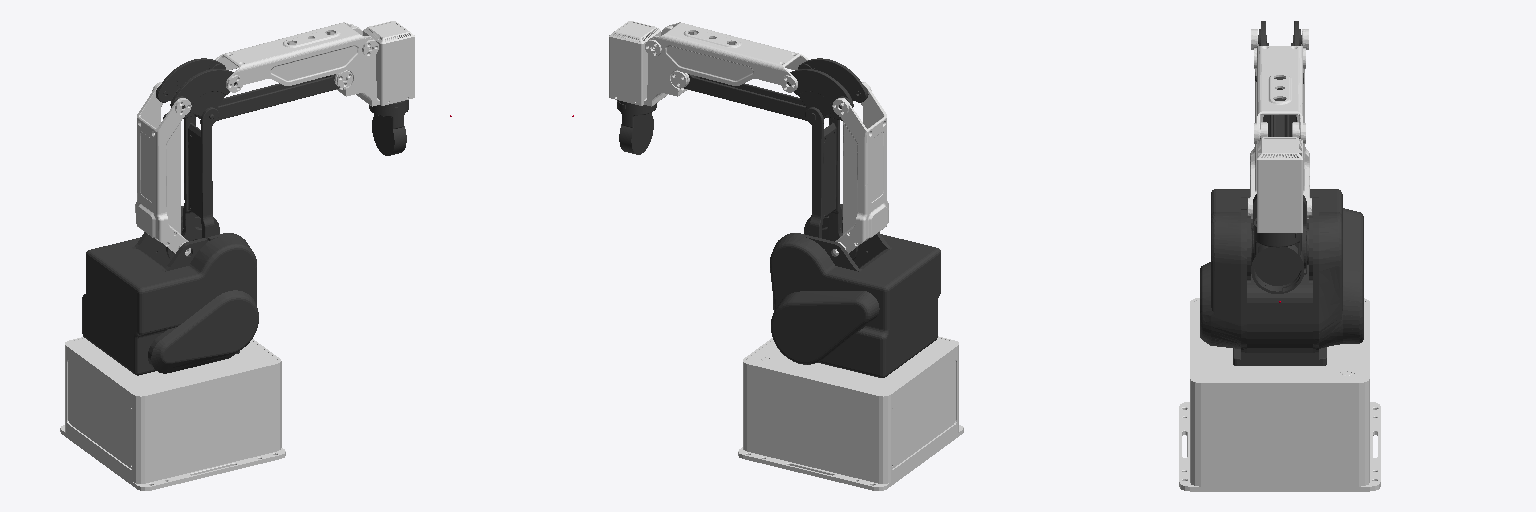
URDF robot description (mg400):
<?xml version="1.0" encoding="utf-8"?>
<!-- This URDF was automatically created by SolidWorks to URDF Exporter! Originally created by Stephen Brawner ([email redacted]) 
     Commit Version: 1.6.0-1-g15f4949  Build Version: 1.6.7594.29634
     For more information, please see http://wiki.ros.org/sw_urdf_exporter -->
<robot name="mg400">
  <material name="TransparentRed">
    <color rgba="0.9 0 0.2 0.5"/>
  </material>
  <!-- Colors -->
  <material name="DarkGrey">
    <color rgba="0.3 0.3 0.3 1.0"/>
  </material>
  <material name="Grey">
    <color rgba="0.4 0.4 0.4 1.0"/>
  </material>
  <material name="Orange">
    <color rgba="1.0 0.423529411765 0.0392156862745 1.0"/>
  </material>
  <material name="Blue">
    <color rgba="0 0.1 1.0 1.0"/>
  </material>
  <material name="LightGrey">
    <color rgba="0.9 0.9 0.9 1.0"/>
  </material>
  <material name="Red">
    <color rgba="0.9 0 0.2 1.0"/>
  </material>
  <material name="TransparentRed">
    <color rgba="0.9 0 0.2 0.5"/>
  </material>
  <material name="Green">
    <color rgba="0 0.9 0.5 1.0"/>
  </material>
  <material name="Yellow">
    <color rgba="0.7 0.7 0 1.0"/>
  </material>
  <material name="LightBlue">
    <color rgba="0. 0.3 1.0 1.0"/>
  </material>
  <material name="Black">
    <color rgba="0.05 0.05 0.05 1.0"/>
  </material>
  <material name="White">
    <color rgba="1.0 1.0 1.0 1.0" />
  </material>

  
    <link name="base_link">
        <inertial>
            <origin xyz="0.000600637001378879 -2.53487071137343E-07 0.0560927888040551" rpy="0 0 0"/>
            <mass value="3.62164811695094"/>
            <inertia
                    ixx="0.0126582175296405"
                    ixy="6.66832041405407E-08"
                    ixz="-3.52548281362717E-06"
                    iyy="0.0145891535260188"
                    iyz="5.15901657460475E-08"
                    izz="0.0195045116656827"/>
        </inertial>
        <visual>
            <origin xyz="0 0 0" rpy="0 0 0"/>
            <geometry>
                <mesh filename="package://mg400/meshes/base_link.STL"/>
            </geometry>
            <material name="LightGrey"/>

        </visual>
        <collision>
            <origin xyz="0 0 0" rpy="0 0 0"/>
            <geometry>
                <mesh filename="package://mg400/meshes/base_link.STL"/>
            </geometry>
        </collision>
    </link>

    <link name="link1">
        <inertial>
            <origin xyz="-0.0046209286967387 -6.88107982318643E-05 0.0709919358465827" rpy="0 0 0"/>
            <mass value="1.77056222753813"/>
            <inertia
                    ixx="0.00605885293080088"
                    ixy="0.000156081820035162"
                    ixz="-0.00021785654850453"
                    iyy="0.00579381982249127"
                    iyz="6.20876898015621E-05"
                    izz="0.00741058257251941"/>
        </inertial>
        <visual>
            <origin xyz="0 0 0" rpy="0 0 0"/>
            <geometry>
                <mesh filename="package://mg400/meshes/link1.STL"/>
            </geometry>
            <material name="DarkGrey"/>
        </visual>
        <collision>
            <origin xyz="0 0 0" rpy="0 0 0"/>
            <geometry>
                <mesh filename="package://mg400/meshes/link1.STL"/>
            </geometry>
        </collision>
    </link>

    <joint name="j1" type="revolute">
        <origin xyz="-0.00500000000000002 0 0.109" rpy="0 0 0"/>
        <parent link="base_link"/>
        <child link="link1"/>
        <axis xyz="0 0 1"/>
        <limit lower="-3.14" upper="3.14" effort="0" velocity="0"/>
    </joint>

    <link name="link2_1">
        <inertial>
            <origin xyz="-0.00321788524756698 0.0352926570826593 0.0596131328734945" rpy="0 0 0"/>
            <mass value="0.0866115884541459"/>
            <inertia
                    ixx="0.000338551627157209"
                    ixy="-2.78858228577314E-09"
                    ixz="1.05212346076681E-05"
                    iyy="0.000307789653713489"
                    iyz="-1.36109590152488E-06"
                    izz="3.89949940178023E-05"/>
        </inertial>
        <visual>
            <origin xyz="0 0 0" rpy="0 0 0"/>
            <geometry>
                <mesh filename="package://mg400/meshes/link2_1.STL"/>
            </geometry>
            <material name="DarkGrey"/>
        </visual>
        <collision>
            <origin xyz="0 0 0" rpy="0 0 0"/>
            <geometry>
                <mesh filename="package://mg400/meshes/link2_1.STL"/>
            </geometry>
        </collision>
    </link>

    <joint name="j2_1" type="revolute">
        <origin xyz="0.0435007595118091 -0.0357748756218899 0.118995682641123" rpy="0 0 0"/>
        <parent link="link1"/>
        <child link="link2_1"/>
        <axis xyz="0 1 0"/>
        <limit lower="-3.14" upper="3.14" effort="0" velocity="0"/>
    </joint>

    <link name="link3_1">
        <inertial>
            <origin xyz="0.0821679417596488 0.000113044685842874 -0.00333758753063973" rpy="0 0 0"/>
            <mass value="0.0375214831045061"/>
            <inertia
                    ixx="2.54761091812684E-06"
                    ixy="3.73102654491378E-07"
                    ixz="-2.02625705871199E-06"
                    iyy="0.000164234314177935"
                    iyz="-1.44731096825347E-08"
                    izz="0.000164331500854172"/>
        </inertial>
        <visual>
            <origin xyz="0 0 0" rpy="0 0 0"/>
            <geometry>
                <mesh filename="package://mg400/meshes/link3_1.STL"/>
            </geometry>
            <material name="DarkGrey"/>
        </visual>
        <collision>
            <origin xyz="0 0 0" rpy="0 0 0"/>
            <geometry>
                <mesh filename="package://mg400/meshes/link3_1.STL"/>
            </geometry>
        </collision>
    </link>

    <joint name="j3_1" type="revolute">
        <origin xyz="-0.0010512570171516 0.0357748756218898 0.175001164344716" rpy="0 0 0"/>
        <parent link="link2_1"/>
        <child link="link3_1"/>
        <axis xyz="0 1 0"/>
        <limit lower="-3.14" upper="3.14" effort="0" velocity="0"/>
    </joint>

    <link name="link4_1">
        <inertial>
            <origin xyz="0.0387878182928232 0.0170848333998282 -0.0024610990490942" rpy="0 0 0"/>
            <mass value="0.0628979533925801"/>
            <inertia
                    ixx="4.78483605712844E-05"
                    ixy="1.42081909356751E-07"
                    ixz="8.32917079044309E-06"
                    iyy="5.42362047732042E-05"
                    iyz="-2.90608446019989E-08"
                    izz="3.36120409842199E-05"/>
        </inertial>
        <visual>
            <origin xyz="0 0 0" rpy="0 0 0"/>
            <geometry>
                <mesh filename="package://mg400/meshes/link4_1.STL"/>
            </geometry>
            <material name="LightGrey"/>
        </visual>
        <collision>
            <origin xyz="0 0 0" rpy="0 0 0"/>
            <geometry>
                <mesh filename="package://mg400/meshes/link4_1.STL"/>
            </geometry>
        </collision>
    </link>

    <joint name="j4_1" type="revolute">
        <origin xyz="0.174969784055705 -0.0170000000000335 0.00325187137614585" rpy="0 0 0"/>
        <parent link="link3_1"/>
        <child link="link4_1"/>
        <axis xyz="0 1 0"/>
        <limit lower="-3.14" upper="3.14" effort="0" velocity="0"/>
    </joint>

    <link name="link5">
        <inertial>
            <origin xyz="4.24246458685662E-07 3.08507851181768E-14 -0.0349688816440933" rpy="0 0 0"/>
            <mass value="0.0965276919819365"/>
            <inertia
                    ixx="4.98589992160928E-05"
                    ixy="-1.534865545378E-12"
                    ixz="3.46424449605658E-10"
                    iyy="4.98589881725446E-05"
                    iyz="-5.64890953414983E-17"
                    izz="2.130463008359E-05"/>
        </inertial>
        <visual>
            <origin xyz="0 0 0" rpy="0 0 0"/>
            <geometry>
                <mesh filename="package://mg400/meshes/link5.STL"/>
            </geometry>
            <material name="LightGrey"/>
        </visual>
        <collision>
            <origin xyz="0 0 0" rpy="0 0 0"/>
            <geometry>
                <mesh filename="package://mg400/meshes/link5.STL"/>
            </geometry>
        </collision>
    </link>

    <joint name="j5" type="revolute">
        <origin xyz="0.0659996239003897 0.0170000000000371 0.031000800715573" rpy="0 0 0"/>
        <parent link="link4_1"/>
        <child link="link5"/>
        <axis xyz="-1.19408295462994E-05 0 0.999999999928708"/>
        <limit lower="-3.14" upper="3.14" effort="0" velocity="0"/>
    </joint>

    <link name="link2_2">
        <inertial>
            <origin xyz="-0.0201111131723385 0.0304999635268521 0.073632809340276" rpy="0 0 0"/>
            <mass value="0.0662546292985346"/>
            <inertia
                    ixx="0.000218973873589181"
                    ixy="3.0147933007673E-10"
                    ixz="2.51402553227571E-06"
                    iyy="0.000200510070261609"
                    iyz="-1.41837669904595E-09"
                    izz="3.74316777806776E-05"/>
        </inertial>
        <visual>
            <origin xyz="0 0 0" rpy="0 0 0"/>
            <geometry>
                <mesh filename="package://mg400/meshes/link2_2.STL"/>
            </geometry>
            <material name="LightGrey"/>
        </visual>
        <collision>
            <origin xyz="0 0 0" rpy="0 0 0"/>
            <geometry>
                <mesh filename="package://mg400/meshes/link2_2.STL"/>
            </geometry>
        </collision>
    </link>

    <joint name="j2_2" type="revolute">
        <origin xyz="0.00452885682964267 -0.0305 0.141500000000001" rpy="0 0 0"/>
        <parent link="link1"/>
        <child link="link2_2"/>
        <axis xyz="0 1 0"/>
        <limit lower="-3.14" upper="3.14" effort="0" velocity="0"/>
    </joint>

    <link name="link3_2">
        <inertial>
            <origin xyz="0.0338566736074436 0.0240208873857428 0.00452229895926692" rpy="0 0 0"/>
            <mass value="0.0366692789294813"/>
            <inertia
                    ixx="7.24011830695354E-06"
                    ixy="7.93542746250724E-10"
                    ixz="-1.69163254472566E-06"
                    iyy="2.34967008246727E-05"
                    iyz="4.55507111386579E-10"
                    izz="1.66831643179488E-05"/>
        </inertial>
        <visual>
            <origin xyz="0 0 0" rpy="0 0 0"/>
            <geometry>
                <mesh filename="package://mg400/meshes/link3_2.STL"/>
            </geometry>
            <material name="DarkGrey"/>
        </visual>
        <collision>
            <origin xyz="0 0 0" rpy="0 0 0"/>
            <geometry>
                <mesh filename="package://mg400/meshes/link3_2.STL"/>
            </geometry>
        </collision>
    </link>

    <joint name="j3_2" type="revolute">
        <origin xyz="-0.00105049750546494 0.00649999999999986 0.174996846985851" rpy="0 0 0"/>
        <parent link="link2_2"/>
        <child link="link3_2"/>
        <axis xyz="0 1 0"/>
        <limit lower="-3.14" upper="3.14" effort="0" velocity="0"/>
    </joint>

    <link name="link4_2">
        <inertial>
            <origin xyz="0.0876391591012518 0.023499867452275 0.00831492252441945" rpy="0 0 0"/>
            <mass value="0.0453569016333092"/>
            <inertia
                    ixx="2.00037596001325E-05"
                    ixy="3.34474706250153E-09"
                    ixz="2.17594982354756E-07"
                    iyy="0.000132049841023893"
                    iyz="5.36978669669685E-10"
                    izz="0.000141813978894428"/>
        </inertial>
        <visual>
            <origin xyz="0 0 0" rpy="0 0 0"/>
            <geometry>
                <mesh filename="package://mg400/meshes/link4_2.STL"/>
            </geometry>
            <material name="LightGrey"/>
        </visual>
        <collision>
            <origin xyz="0 0 0" rpy="0 0 0"/>
            <geometry>
                <mesh filename="package://mg400/meshes/link4_2.STL"/>
            </geometry>
        </collision>
    </link>

    <joint name="j4_2" type="revolute">
        <origin xyz="0.0678965856063864 0.000500000000000073 0.0119719999403219" rpy="0 0 0"/>
        <parent link="link3_2"/>
        <child link="link4_2"/>
        <axis xyz="0 1 0"/>
        <limit lower="-3.14" upper="3.14" effort="0" velocity="0"/>
    </joint>

  <!--dummy joint-->
  <joint name="ee_joint" type="fixed">
    <parent link="link5"/>
    <child link="ee_link"/>
    <origin xyz="0 0 -0.065" rpy="0 0 0"/>
  </joint>

  <link name="ee_link">
    <visual>
      <origin rpy="0 0 0" xyz="0 0 0"/>
      <geometry>
        <sphere radius="0.005"/>
      </geometry>
        <material name="Red"/>
    </visual>
    <collision>
      <geometry>
        <sphere radius="0.001"/>
      </geometry>
      <origin rpy="0 0 0" xyz="0.0 0 0"/>
    </collision>
    <inertial>
      <mass value="0.0"/>
      <origin rpy="-3.14 0.0 1.57" xyz="0.0 0.0 0.0"/>
      <inertia ixx="0.001" ixy="0.0" ixz="0.0" iyy="0.001" iyz="0.0" izz="0.001"/>
    </inertial>
  </link>

        <!-- TacTip -->

      <link name="tactip_adapter_link">
        <inertial>
          <origin rpy="0 0 0" xyz="0 0 0"/>
           <mass value="0.1"/>
           <inertia ixx="0.001" ixy="0" ixz="0" iyy="0.001" iyz="0" izz="0.001"/>
        </inertial>
        <visual>
          <origin rpy="0 0 0" xyz="0 0 0"/>
          <geometry>
    				<mesh filename="../tactip/right_angle_tactip/adapter/right_angle_adapter.obj" scale="0.7 0.7 0.7"/>
          </geometry>
           <material name="blackish">
            <color rgba="0.3 0.3 0.3 1.0"/>
          </material>
        </visual>
        <collision>
          <origin rpy="0 0 0" xyz="0 0 0"/>
          <geometry>
    				<mesh filename="../tactip/right_angle_tactip/adapter/right_angle_adapter.obj" scale="0.7 0.7 0.7"/>
          </geometry>
        </collision>
      </link>

      <joint name="tactip_ee_joint" type="fixed">
        <parent link="ee_link"/>
        <child link="tactip_adapter_link"/>
        <origin rpy="0 -1.57 -3.14" xyz="-0.005 0.00 -0.052"/>
      </joint>

      <link name="tactip_body_link">
        <inertial>
          <origin rpy="0 0 0" xyz="0 0 0"/>
           <mass value="0.25"/>
           <inertia ixx="0.001" ixy="0" ixz="0" iyy="0.001" iyz="0" izz="0.001"/>
        </inertial>
        <visual>
          <origin rpy="0 0 0" xyz="0 0 0"/>
          <geometry>
    				<mesh filename="../tactip/standard_tactip/body/tactip_body.obj" scale="1.0 1.0 1.0"/>
          </geometry>
           <material name="blackish">
          </material>
        </visual>
        <collision>
          <origin rpy="0 0 0" xyz="0 0 0"/>
          <geometry>
    				<mesh filename="../tactip/standard_tactip/body/tactip_body.obj" scale="1.0 1.0 1.0"/>
          </geometry>
        </collision>
      </link>

      <joint name="tactip_body_to_adapter" type="fixed">
         <origin rpy="0 0 0" xyz="0 0 0"/>
         <parent link="tactip_adapter_link"/>
         <child link="tactip_body_link"/>
      </joint>

      <link name="tactip_tip_link">
        <contact>
          <friction_anchor/>
          <lateral_friction value="1.0"/>
        </contact>
        <inertial>
          <origin rpy="0 0 0" xyz="0 0 0"/>
           <mass value=".1"/>
           <inertia ixx="1" ixy="0" ixz="0" iyy="1" iyz="0" izz="1"/>
        </inertial>
        <visual>
          <origin rpy="0 0 0" xyz="0 0 0"/>
          <geometry>
            <mesh filename="../tactip/standard_tactip/tip/skin.obj" scale="1.0 1.0 1.0"/>
          </geometry>
           <material name="black">
            <color rgba="0.0 0.0 0.0 1.0"/>
          </material>
        </visual>
        <collision>
          <origin rpy="0 0 0" xyz="0 0 0"/>
          <geometry>
            <mesh filename="../tactip/standard_tactip/tip/core.obj" scale="1 1 1"/>
          </geometry>
        </collision>
      </link>

      <joint name="tactip_tip_to_body" type="fixed">
         <origin rpy="1.57 0 0" xyz="0 0 0.065"/>
         <axis xyz="0 1 0"/>
         <parent link="tactip_body_link"/>
         <child link="tactip_tip_link"/>
      </joint>

      <!-- TCP -->
      <link name="tcp_link">
        <visual>
          <origin rpy="0 0 0" xyz="0 0 0"/>
          <geometry>
            <sphere radius="0.001"/>
          </geometry>
           <material name="TransparentRed"/>
        </visual>
        <inertial>
          <mass value="0.0"/>
          <origin rpy="0.0 -1.57 0.0" xyz="0.0 0.0 0.0"/>
          <inertia ixx="1.0" ixy="0.0" ixz="0.0" iyy="1.0" iyz="0.0" izz="1.0"/>
        </inertial>
      </link>

      <joint name="tcp_joint" type="fixed">
        <parent link="tactip_body_link"/>
        <child link="tcp_link"/>
        <origin rpy="0 0 0" xyz="0.0 0.0 0.085"/>
      </joint>
</robot>

--- Facts derived from the render (not from the file) ---
The picture shows the robot from 3 angles, left to right: view 1: azimuth 30°, elevation 25°; view 2: azimuth 150°, elevation 25°; view 3: azimuth 270°, elevation 25°; orthographic projection.
Robot: mg400 — 14 links, 13 joints (8 revolute, 5 fixed); root link base_link; default pose: all joints at 0.
Links seen in each view (by area): view 1: base_link, link1, link2_2, link4_2, link4_1, link2_1, link3_2, link3_1, tactip_adapter_link; view 2: base_link, link1, link2_2, link4_2, link4_1, link2_1, link3_2, link3_1, tactip_adapter_link; view 3: base_link, link1, link4_1, link4_2, tactip_adapter_link, link2_2, link2_1.
Boxes of the visible links, x1,y1,x2,y2 form: base_link: (60, 337, 285, 490); link1: (82, 206, 258, 375); link2_2: (135, 82, 191, 255); link4_2: (215, 22, 378, 92); link4_1: (334, 21, 414, 106); link2_1: (181, 107, 218, 241); link3_2: (156, 58, 236, 118); link3_1: (163, 74, 339, 120); tactip_adapter_link: (369, 100, 408, 155); base_link: (738, 336, 963, 490); link1: (770, 204, 940, 377); link2_2: (832, 82, 888, 255); link4_2: (645, 22, 808, 92); link4_1: (609, 21, 689, 106); link2_1: (805, 107, 842, 241); link3_2: (787, 58, 868, 117); link3_1: (684, 74, 842, 120); tactip_adapter_link: (617, 100, 656, 154); base_link: (1179, 298, 1380, 491); link1: (1200, 189, 1363, 365); link4_1: (1257, 122, 1302, 232); link4_2: (1254, 46, 1305, 143); tactip_adapter_link: (1251, 218, 1303, 293); link2_2: (1248, 29, 1311, 218); link2_1: (1251, 73, 1308, 274).
Size in the robot's own frame: 0.4544 by 0.19 by 0.4597 metres.
10 mesh visuals loaded from 12 distinct referenced files (9 binary STL, 1 OBJ); not drawn: 2 (reference not matched to a file when rendering).
